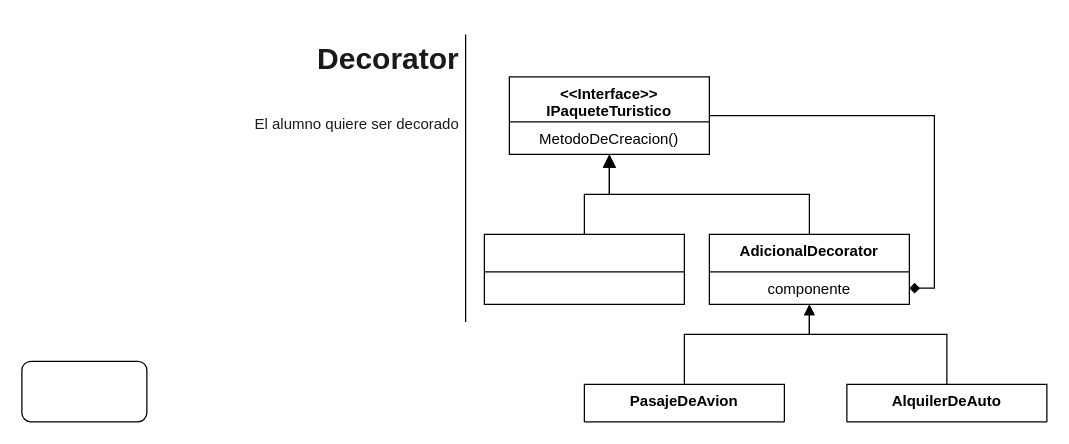
Image size: 1069x444. Some labels were removed from this diagram. The shapes that lost their labels are listed below. From the top down, each one's centre as x and y in pixels, then its label:
At point (583, 268): "PaqueteTuristico".
At point (84, 391): "CLIENTE".
